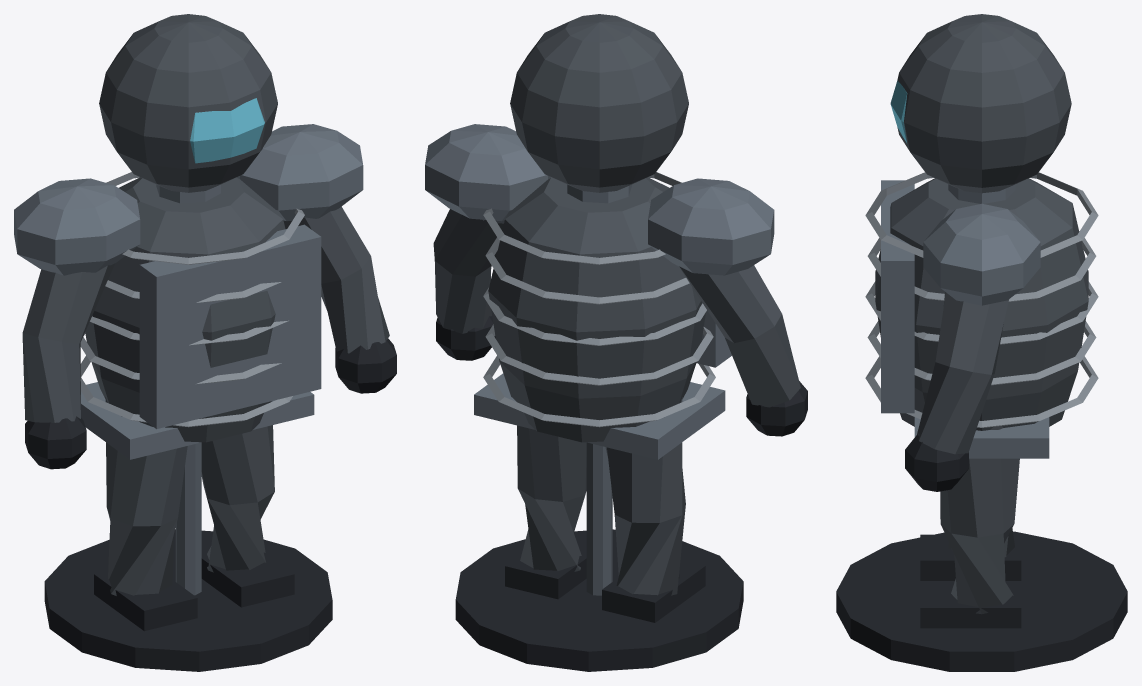
The model's file is mesh-armor.glb.
The picture shows the model from 3 angles, left to right: view 1: azimuth 30°, elevation 25°; view 2: azimuth 150°, elevation 25°; view 3: azimuth 270°, elevation 25°; orthographic projection.
Parts seen in each view (by area): view 1: m; view 2: m; view 3: m.
Part boxes in pixels (bbox=[...]): m: bbox=[14, 14, 396, 671]; m: bbox=[425, 14, 807, 671]; m: bbox=[836, 14, 1127, 671].
Size of the model in its own units: 0.3641 by 0.56 by 0.251.
